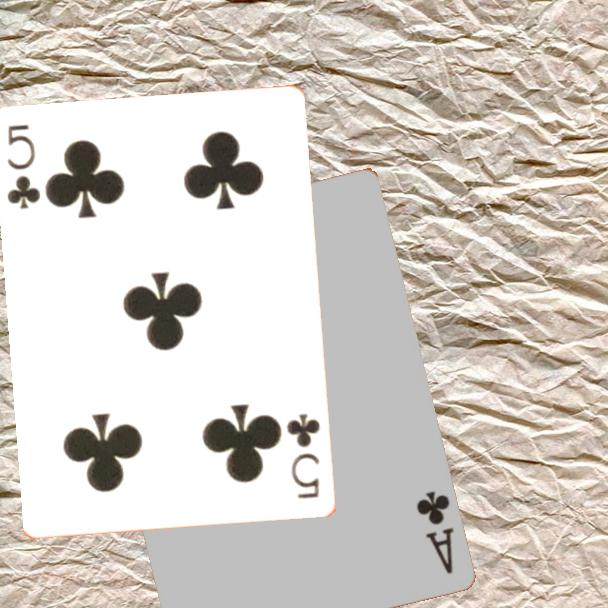c01: (412, 487, 456, 577)
c05: (284, 410, 324, 502), (4, 121, 44, 212)
